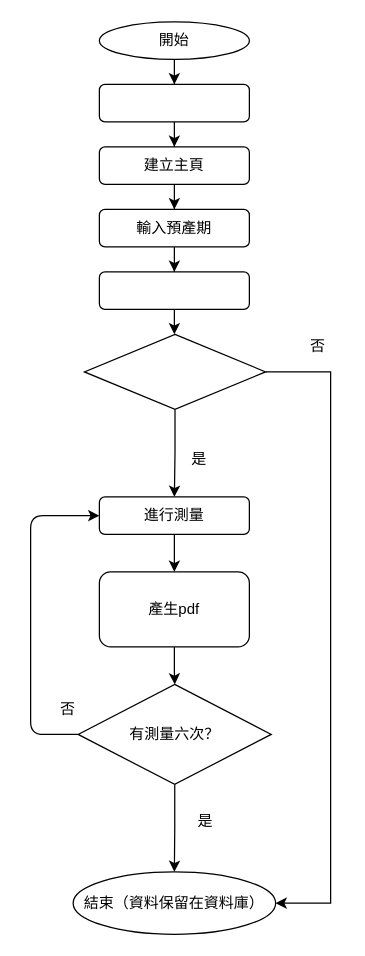
The diagram is 365 pixels wide and 956 high, and some of its shapes have lost their labels. The centre of each missing label's shape, as x and y in pixels:
"填問卷" goes at pixel 173 290.
"是否合格" goes at pixel 174 371.
"進入報告系統" goes at pixel 173 102.
